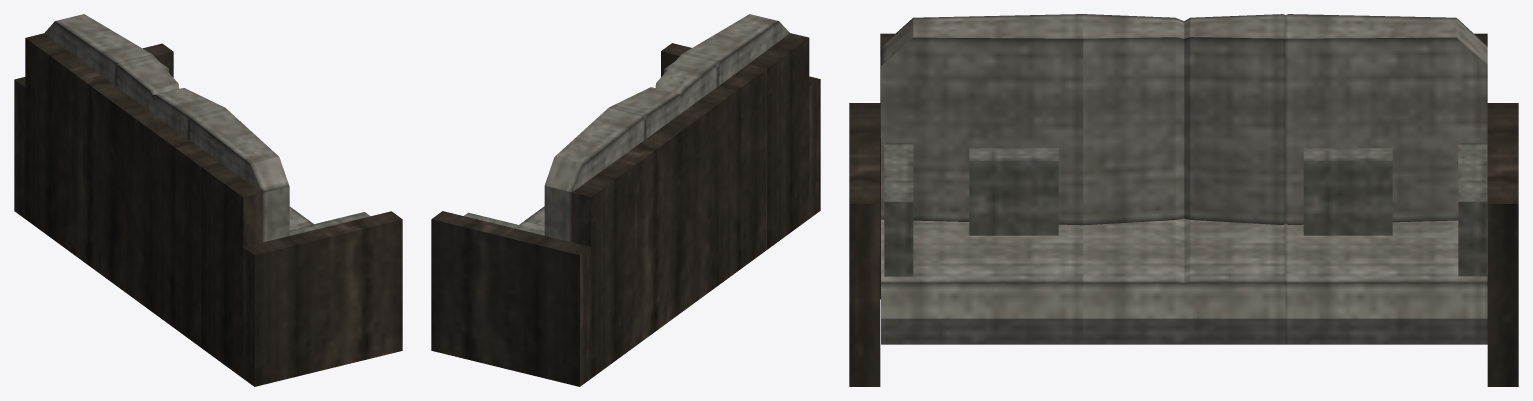
Rendered from SM_EC_Sofa_0.fbx.
The picture shows the model from 3 angles, left to right: view 1: azimuth 30°, elevation 25°; view 2: azimuth 150°, elevation 25°; view 3: azimuth 270°, elevation 25°; orthographic projection. The views are drawn at different scales.
Parts seen in each view (by area): view 1: SM_EC_Sofa_0; view 2: SM_EC_Sofa_0; view 3: SM_EC_Sofa_0.
Boxes of the visible parts, x1,y1,x2,y2 form: SM_EC_Sofa_0: [14, 14, 402, 386]; SM_EC_Sofa_0: [431, 14, 820, 386]; SM_EC_Sofa_0: [849, 14, 1518, 386].
Size of the model in its own units: 1.07 by 2.99 by 1.4.
